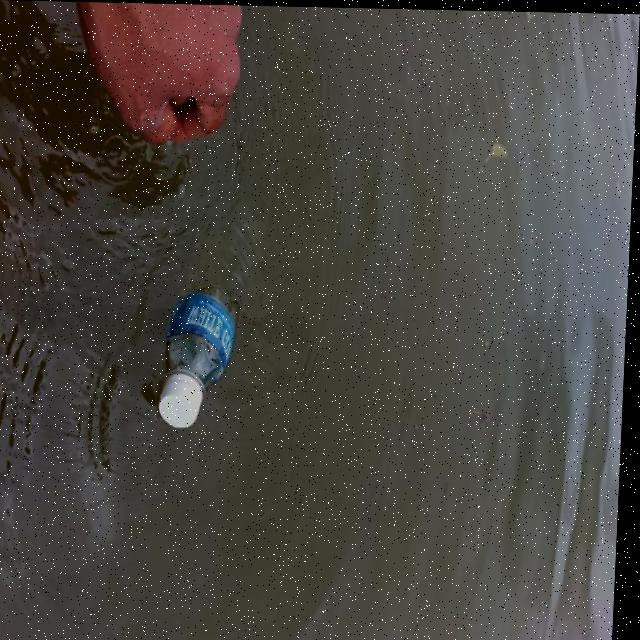waterbottle: (145, 187, 280, 458)
